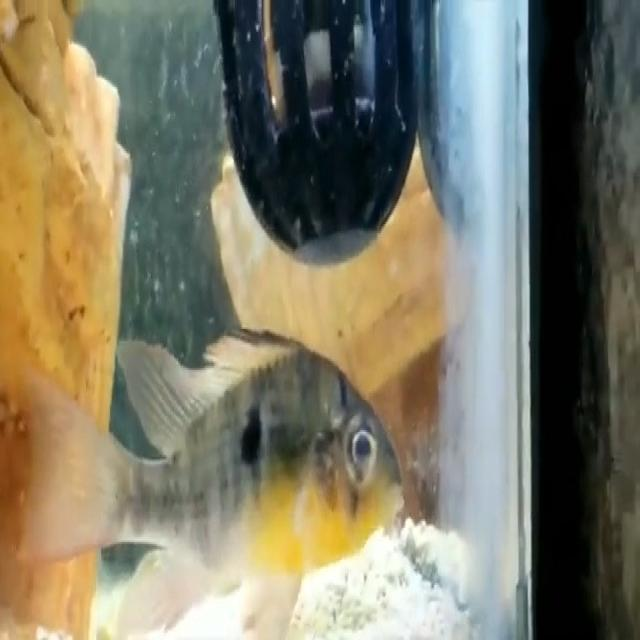fish: (13, 323, 415, 640)
